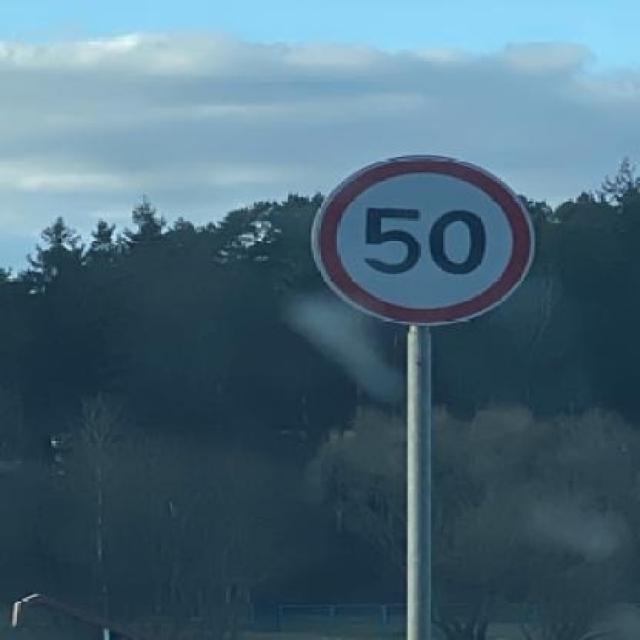forb_speed_over_50: (310, 158, 536, 324)
